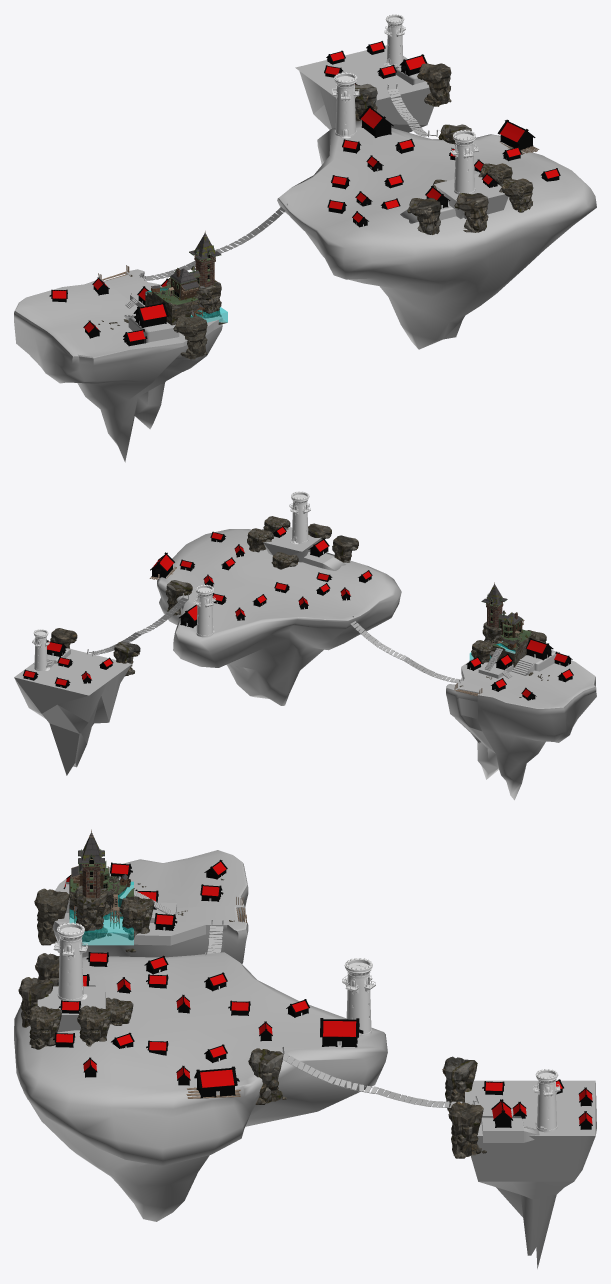
File: Medium Island 1.fbx
3 renders of one model, top to bottom at view 1: azimuth 30°, elevation 25°; view 2: azimuth 150°, elevation 25°; view 3: azimuth 270°, elevation 25°, orthographic. The views are drawn at different scales.
Visible parts, largest first — view 1: Mesh8, Mesh1, pCube12, model_6:Mesh, pasted__KH_TowerHigh.005, pasted__KH_TowerHigh.003, pCube13, Mesh5, Mesh21, Mesh17, Mesh19, pasted__KH_TowerHigh.004 (+7 smaller); view 2: Mesh8, Mesh1, pCube12, pasted__KH_TowerHigh.005, pasted__KH_TowerHigh.003, pCube13, model_6:Mesh, pasted__KH_TowerHigh.004, Mesh19, Mesh20, Mesh22, ground.003 (+3 smaller); view 3: Mesh8, pCube12, Mesh1, pasted__KH_TowerHigh.003, model_6:Mesh, pasted__KH_TowerHigh.005, Mesh21, Mesh22, Mesh5, pasted__KH_TowerHigh.004, model_53:Mesh, Mesh20 (+15 smaller).
Boxes of the visible parts, x1=… form: Mesh8: x1=277, y1=120, x2=596, y2=349; Mesh1: x1=14, y1=269, x2=222, y2=462; pCube12: x1=295, y1=45, x2=433, y2=132; model_6:Mesh: x1=145, y1=280, x2=227, y2=325; pasted__KH_TowerHigh.005: x1=332, y1=72, x2=359, y2=138; pasted__KH_TowerHigh.003: x1=450, y1=130, x2=478, y2=194; pCube13: x1=434, y1=173, x2=508, y2=218; Mesh5: x1=98, y1=275, x2=207, y2=359; Mesh21: x1=417, y1=63, x2=451, y2=106; Mesh17: x1=454, y1=193, x2=488, y2=232; Mesh19: x1=407, y1=198, x2=441, y2=234; pasted__KH_TowerHigh.004: x1=384, y1=14, x2=405, y2=66; Mesh8: x1=157, y1=529, x2=401, y2=705; Mesh1: x1=446, y1=658, x2=596, y2=800; pCube12: x1=14, y1=648, x2=131, y2=775; pasted__KH_TowerHigh.005: x1=193, y1=584, x2=216, y2=637; pasted__KH_TowerHigh.003: x1=289, y1=491, x2=310, y2=544; pCube13: x1=263, y1=527, x2=321, y2=562; model_6:Mesh: x1=482, y1=621, x2=535, y2=666; pasted__KH_TowerHigh.004: x1=32, y1=629, x2=49, y2=670; Mesh19: x1=332, y1=535, x2=358, y2=562; Mesh20: x1=113, y1=641, x2=140, y2=676; Mesh22: x1=165, y1=580, x2=192, y2=615; ground.003: x1=302, y1=552, x2=345, y2=570; Mesh8: x1=14, y1=952, x2=387, y2=1221; pCube12: x1=465, y1=1080, x2=596, y2=1268; Mesh1: x1=52, y1=850, x2=248, y2=963; pasted__KH_TowerHigh.003: x1=53, y1=922, x2=87, y2=1001; model_6:Mesh: x1=69, y1=876, x2=133, y2=941; pasted__KH_TowerHigh.005: x1=342, y1=958, x2=375, y2=1036; Mesh21: x1=448, y1=1102, x2=486, y2=1158; Mesh22: x1=248, y1=1048, x2=286, y2=1104; Mesh5: x1=34, y1=883, x2=234, y2=945; pasted__KH_TowerHigh.004: x1=533, y1=1069, x2=560, y2=1132; model_53:Mesh: x1=70, y1=881, x2=133, y2=944; Mesh20: x1=442, y1=1056, x2=477, y2=1112.
Size of the model in its own units: 1452 by 725 by 1125.
